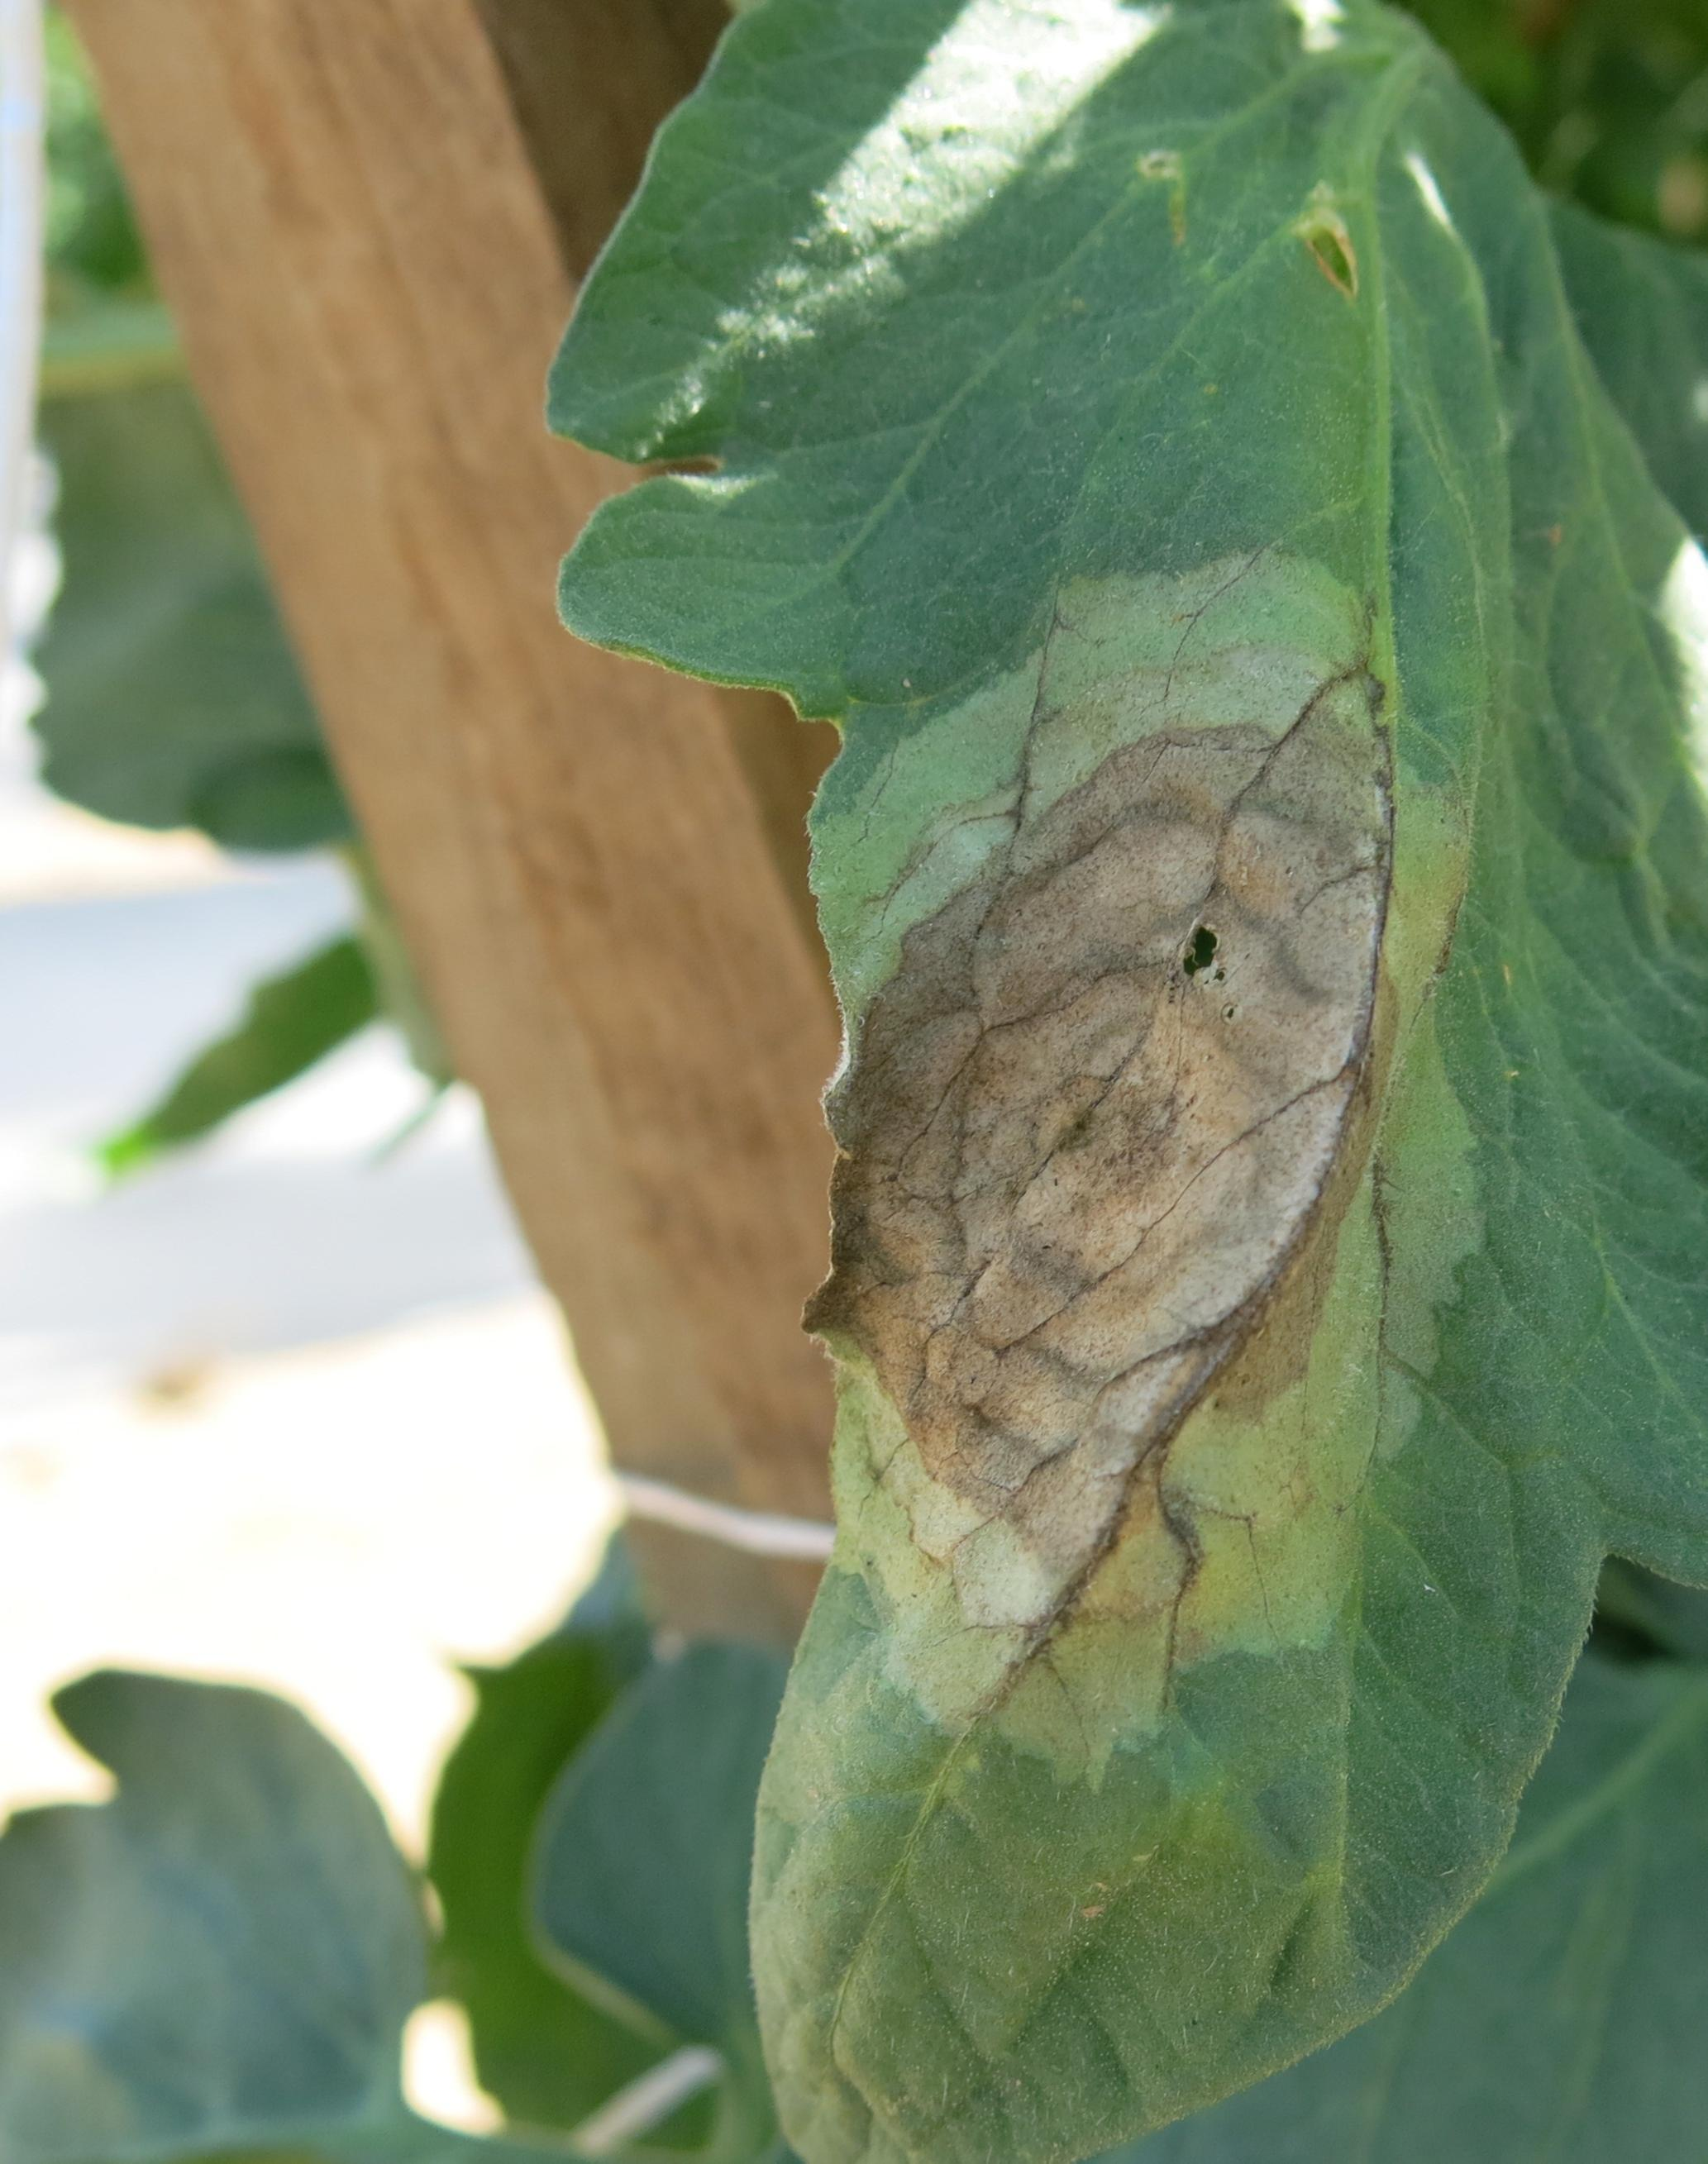Tomato leaf late blight: (528, 7, 1708, 2164)
